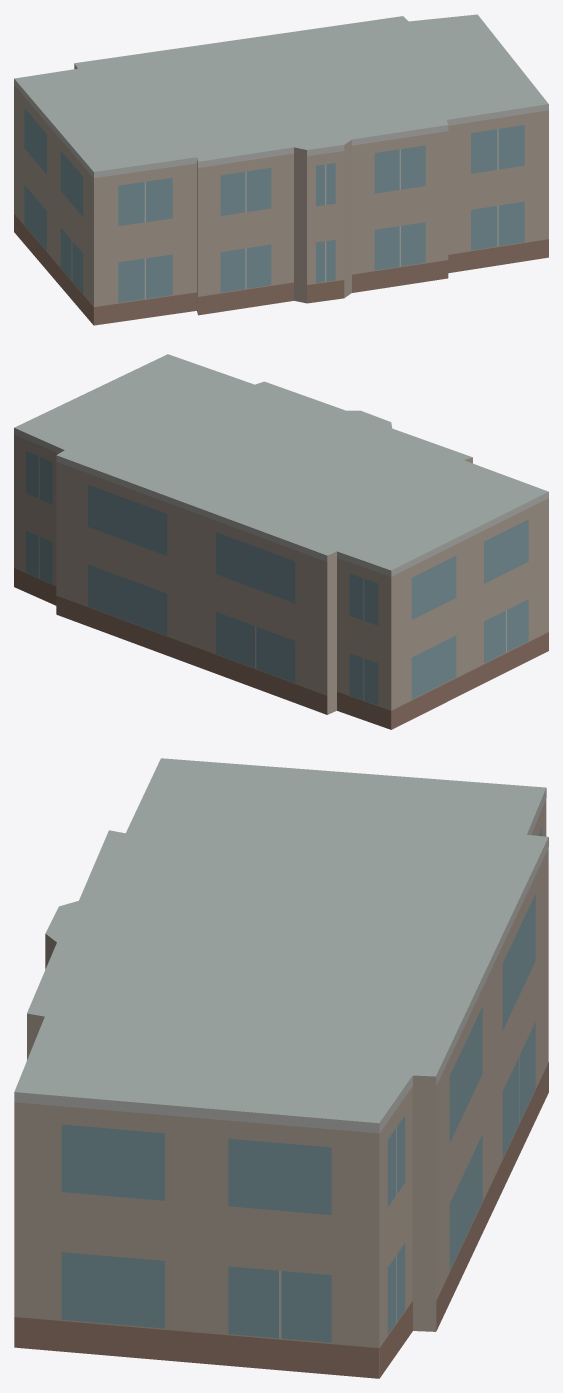
Rendered from survey-upis-32621795.glb.
3 renders of one model, top to bottom at view 1: azimuth 30°, elevation 25°; view 2: azimuth 150°, elevation 25°; view 3: azimuth 270°, elevation 25°, orthographic. The views are drawn at different scales.
Parts seen in each view (by area): view 1: survey-upis-32621795.tmp; view 2: survey-upis-32621795.tmp; view 3: survey-upis-32621795.tmp.
Boxes of the visible parts, box(x1,y1,x2,y2) form: survey-upis-32621795.tmp: box(14, 14, 548, 325); survey-upis-32621795.tmp: box(14, 354, 548, 729); survey-upis-32621795.tmp: box(14, 758, 548, 1378).
Size of the model in its own units: 18.71 by 6.1 by 11.58.
